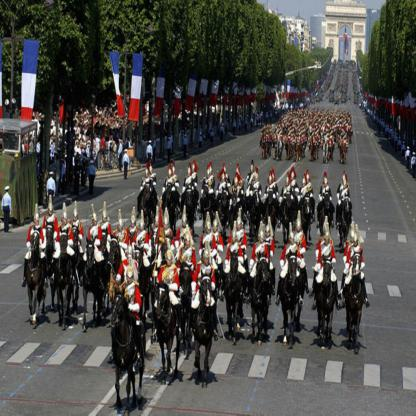face: (204, 258, 210, 266), (128, 275, 133, 283), (168, 259, 173, 266), (237, 223, 242, 230), (326, 239, 330, 245), (233, 237, 237, 243), (214, 226, 218, 232), (132, 222, 136, 228), (74, 215, 78, 221), (128, 254, 132, 260), (165, 223, 169, 229), (50, 209, 53, 216), (187, 241, 190, 248), (261, 238, 265, 243), (207, 228, 211, 233), (141, 226, 145, 231), (355, 241, 359, 246), (292, 238, 295, 244), (267, 231, 270, 237), (120, 224, 123, 230), (64, 219, 67, 225), (37, 219, 40, 225), (298, 226, 301, 231), (104, 217, 107, 222), (94, 221, 97, 226), (351, 237, 354, 242), (184, 221, 187, 226), (157, 221, 160, 226), (307, 178, 310, 183), (146, 173, 149, 178), (255, 176, 258, 181), (287, 182, 290, 186), (344, 186, 347, 189), (235, 183, 238, 186), (222, 179, 225, 182), (193, 169, 196, 172), (325, 184, 327, 188), (270, 181, 272, 185), (189, 173, 191, 177), (208, 175, 210, 179), (174, 171, 176, 175), (304, 183, 306, 186), (292, 177, 294, 180), (170, 174, 172, 177), (210, 172, 212, 175)
